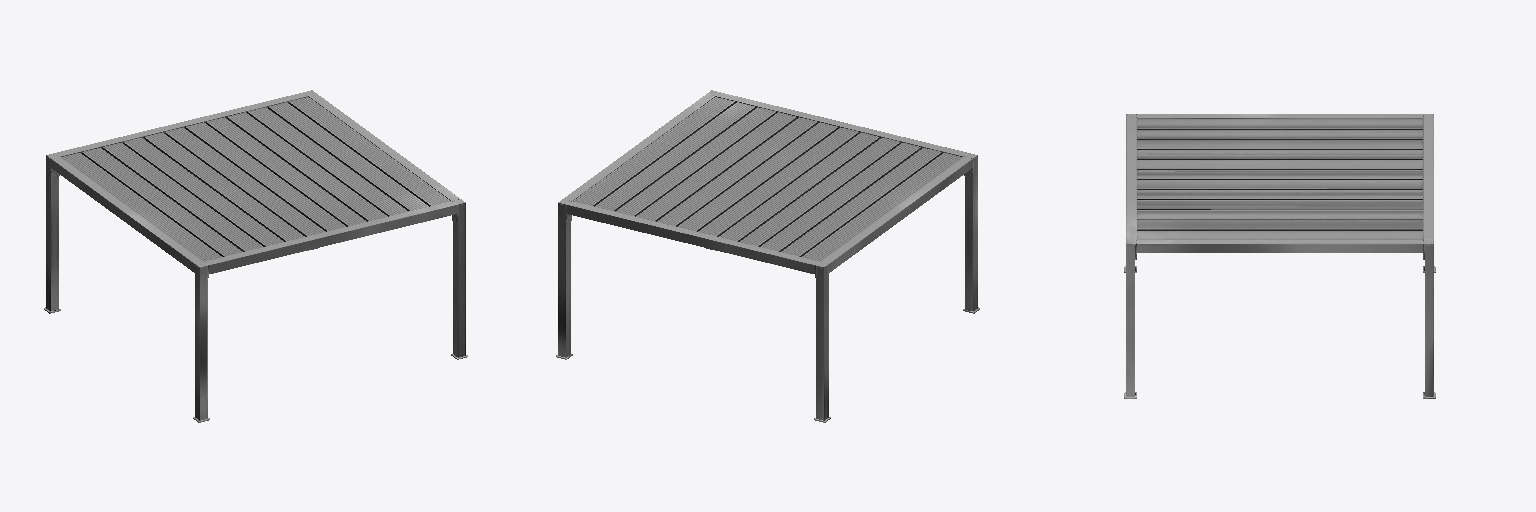
3 renders of one model, left to right at view 1: azimuth 30°, elevation 25°; view 2: azimuth 150°, elevation 25°; view 3: azimuth 270°, elevation 25°, orthographic.
Visible parts, largest first — view 1: THALI_130x130; view 2: THALI_130x130; view 3: THALI_130x130.
Boxes of the visible parts, x1=… form: THALI_130x130: x1=44, y1=90, x2=467, y2=422; THALI_130x130: x1=556, y1=90, x2=979, y2=422; THALI_130x130: x1=1124, y1=114, x2=1435, y2=398.
Bounding box in the file's own units: 1.91 × 1.04 × 1.91.
1 materials, 1 textured.